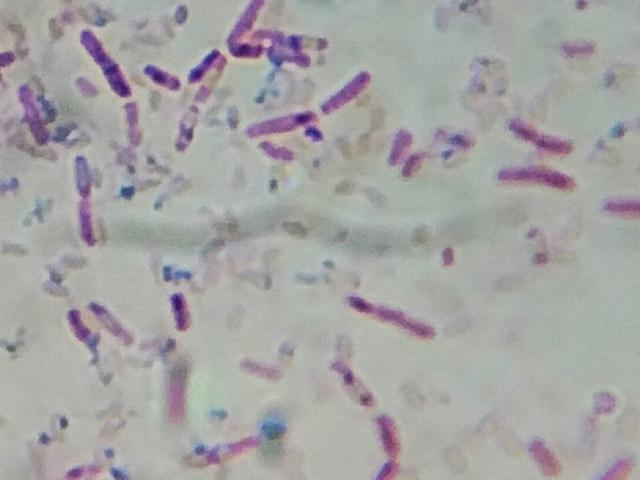E. coli: (345, 292, 440, 341), (79, 27, 131, 103), (318, 68, 386, 117), (503, 110, 572, 151), (244, 107, 323, 141), (92, 299, 139, 349), (331, 357, 374, 411), (161, 359, 196, 423), (493, 162, 574, 189), (15, 81, 52, 139), (203, 427, 258, 463), (521, 435, 561, 479), (258, 30, 328, 54), (175, 100, 208, 147), (236, 46, 303, 69), (71, 196, 102, 243), (233, 353, 281, 383), (186, 43, 223, 80), (65, 150, 95, 195), (228, 2, 266, 37), (596, 450, 640, 479), (601, 195, 640, 226), (172, 290, 199, 334), (61, 303, 90, 343), (59, 456, 105, 480), (261, 142, 303, 166), (379, 413, 400, 453), (386, 129, 408, 167), (142, 62, 172, 87), (402, 146, 421, 179), (0, 40, 17, 73), (374, 454, 393, 480)
